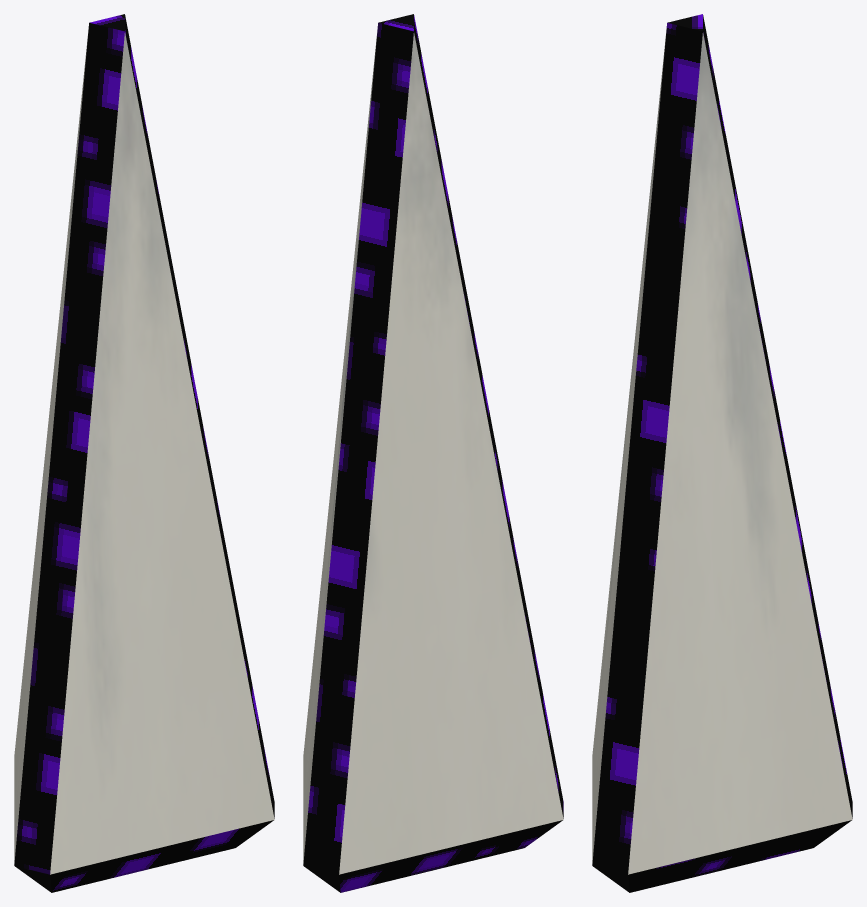
The model's file is staticShieldLeg.fbx.
3 renders of one model, left to right at view 1: azimuth 30°, elevation 25°; view 2: azimuth 150°, elevation 25°; view 3: azimuth 270°, elevation 25°, orthographic.
Parts seen in each view (by area): view 1: Circle; view 2: Circle; view 3: Circle.
Part boxes in pixels (x1,y1,x2,y2): Circle: (14, 14, 274, 892); Circle: (303, 14, 563, 892); Circle: (592, 14, 852, 892).
Bounding box in the file's own units: 1.47 × 4.45 × 1.27.
